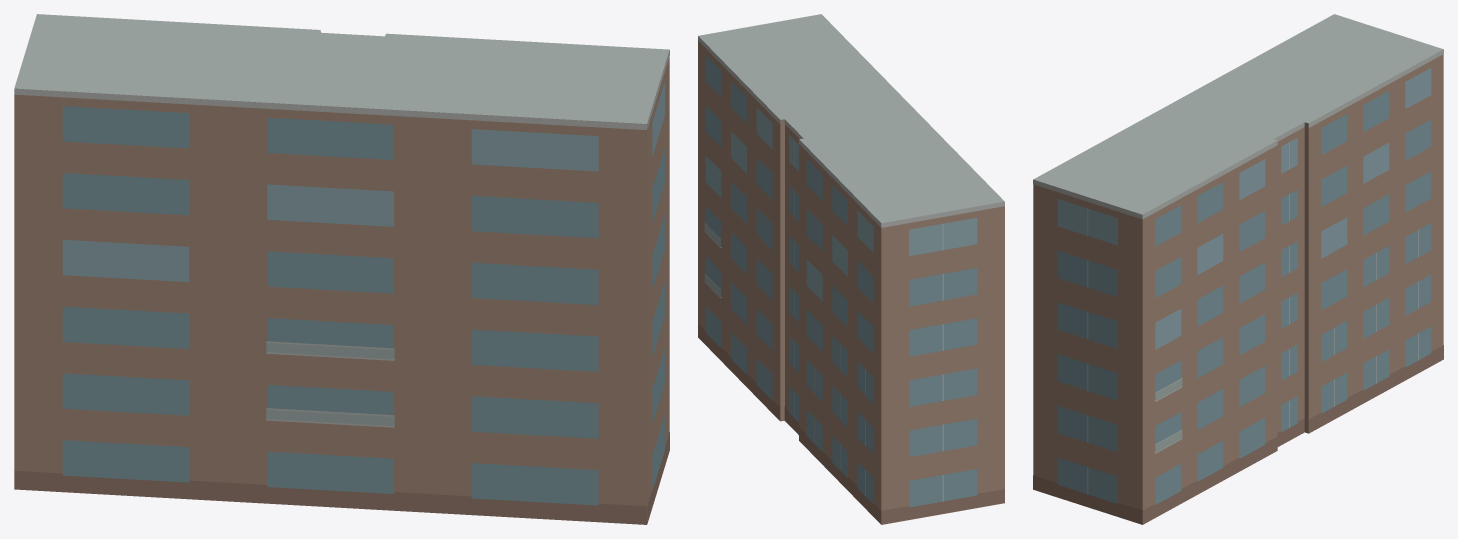
Rendered from survey-upis-32966068.glb.
The picture shows the model from 3 angles, left to right: view 1: azimuth 30°, elevation 25°; view 2: azimuth 150°, elevation 25°; view 3: azimuth 270°, elevation 25°; orthographic projection. The views are drawn at different scales.
Parts seen in each view (by area): view 1: survey-upis-32966068.tmp; view 2: survey-upis-32966068.tmp; view 3: survey-upis-32966068.tmp.
Boxes of the visible parts, bbox=[...] form: survey-upis-32966068.tmp: bbox=[14, 14, 669, 524]; survey-upis-32966068.tmp: bbox=[698, 14, 1004, 524]; survey-upis-32966068.tmp: bbox=[1033, 14, 1443, 524].
Size of the model in its own units: 22.36 by 16.1 by 19.32.
